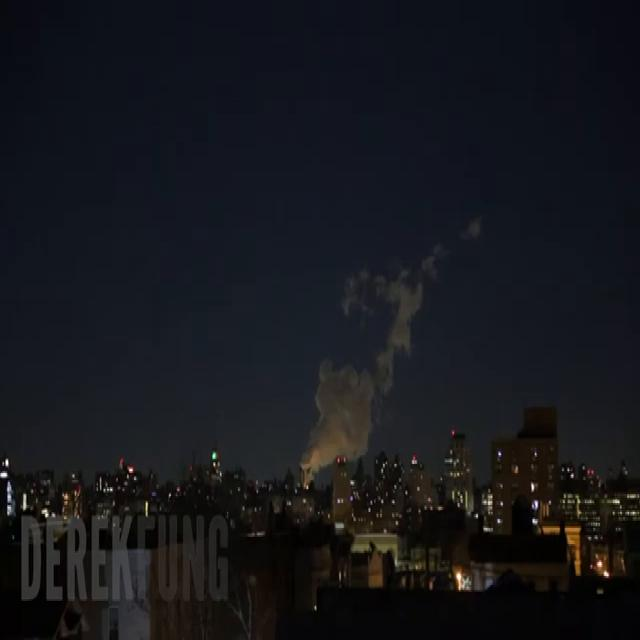smoke: (303, 254, 436, 468)
